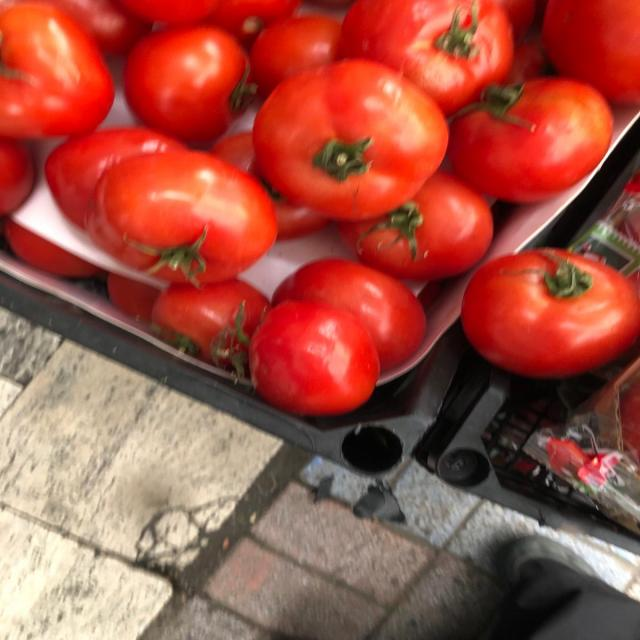tomato: (251, 61, 449, 215), (73, 144, 287, 286), (454, 242, 640, 382)
